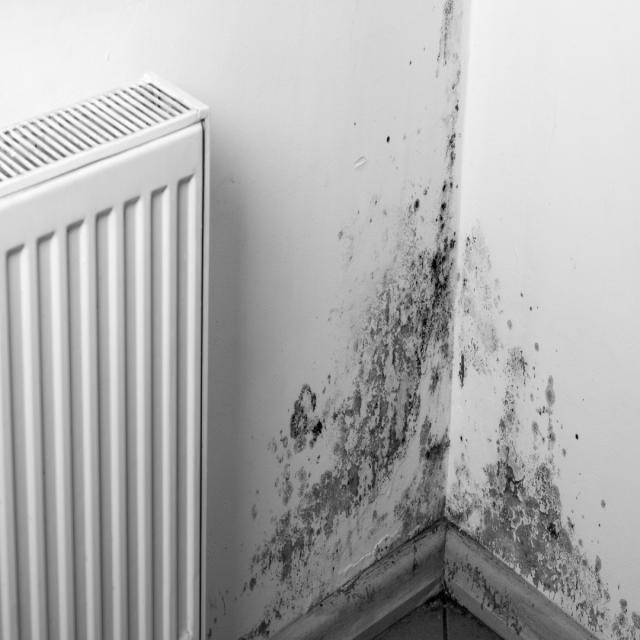stain marks: (201, 0, 640, 640)
